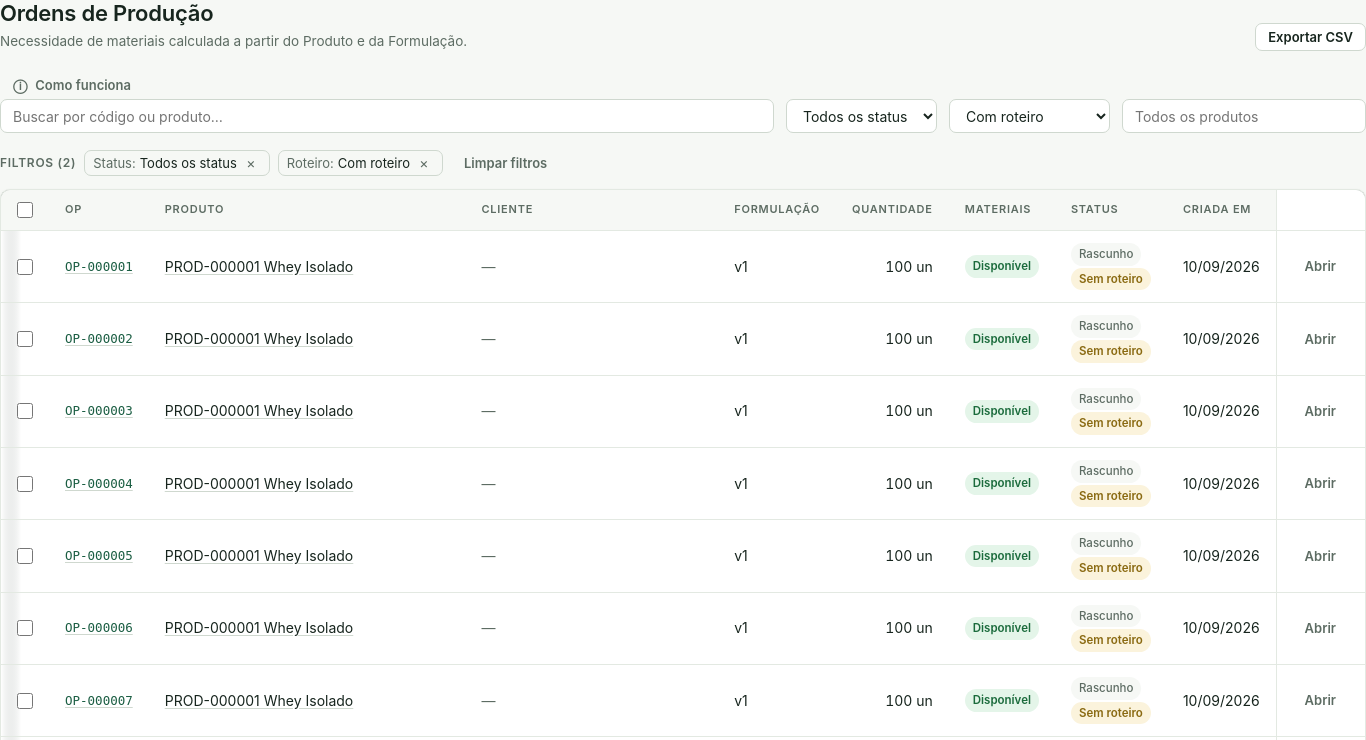
it: OPs — PDF e CSV da seleção › com roteiro também viaja — como `false`, não some do filtro
The image size is (1366, 740).
Click the checkbox named "Selecionar todos os registros desta página" at (25, 210), box [17, 202, 33, 218]
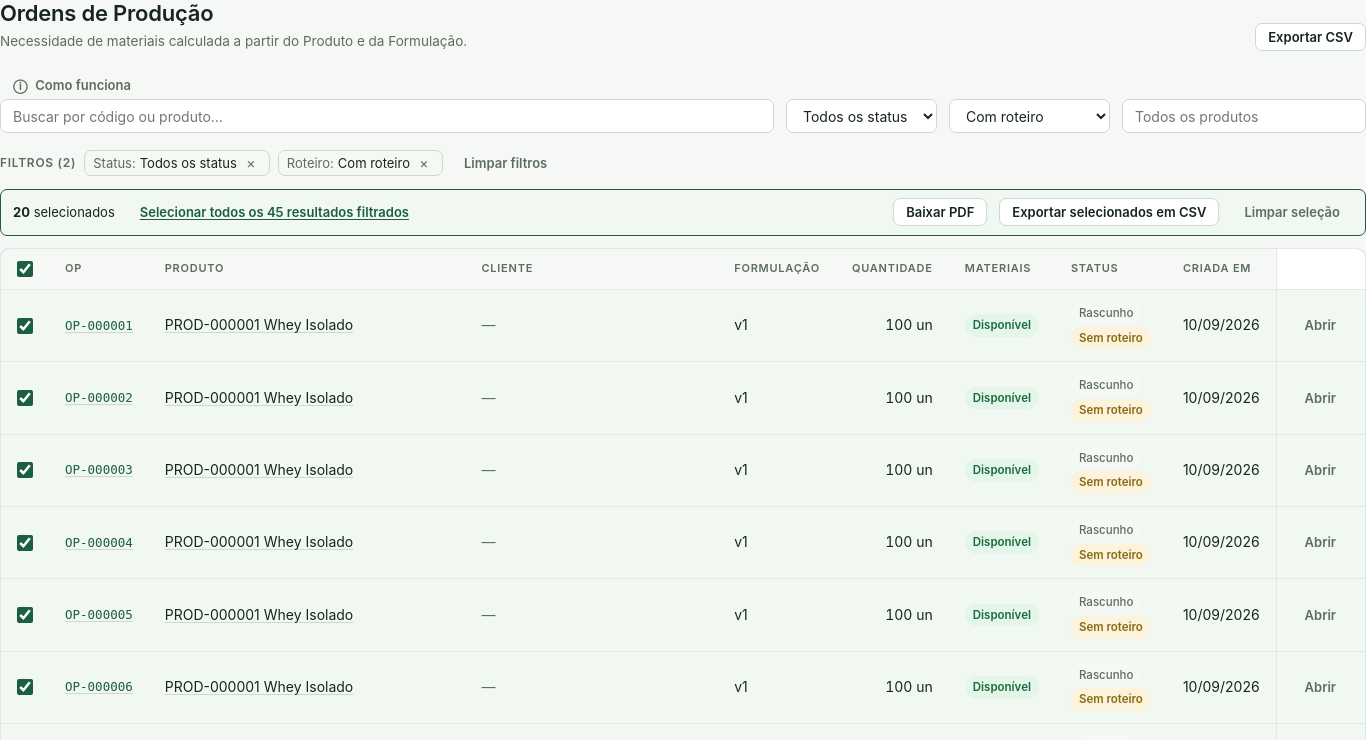
Click the button "Selecionar todos os 45 resultados filtrados" at (274, 212), box [127, 198, 422, 227]
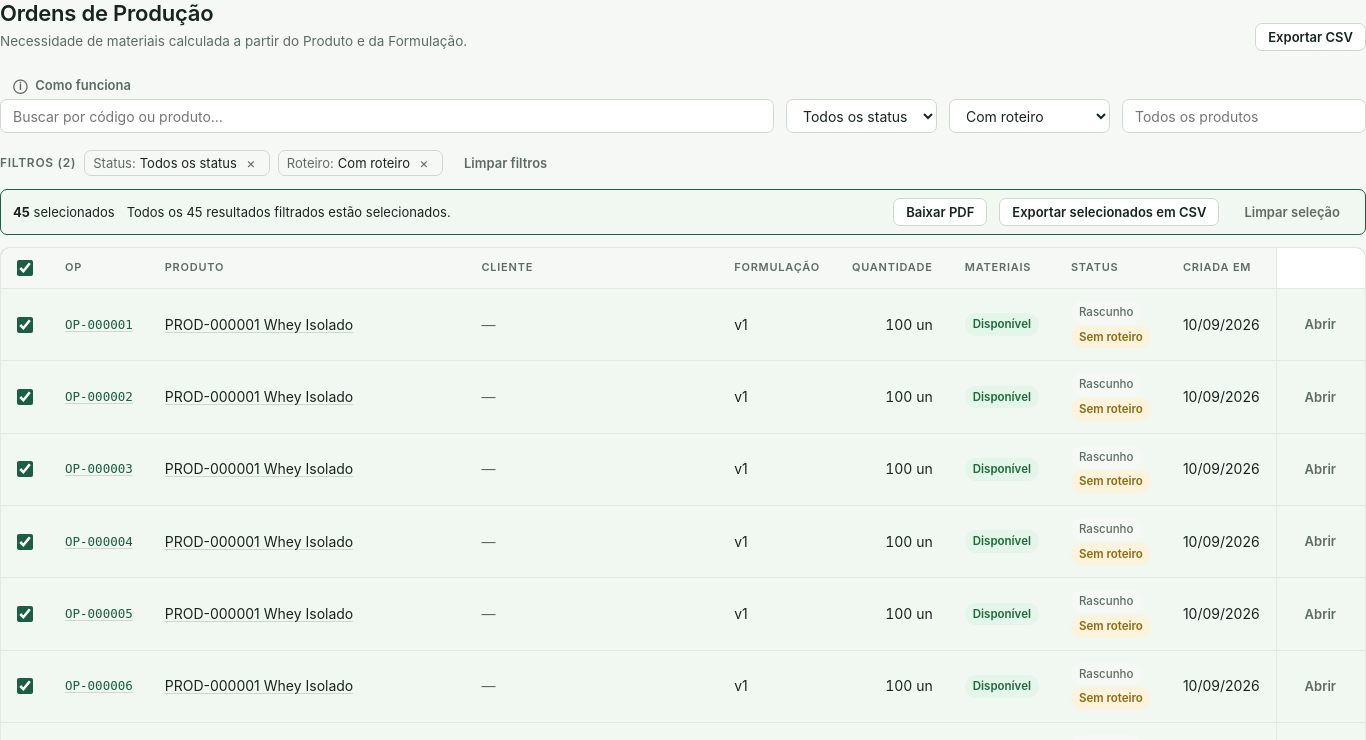
Click the button "Exportar selecionados em CSV" at (1109, 212), box [999, 198, 1219, 226]
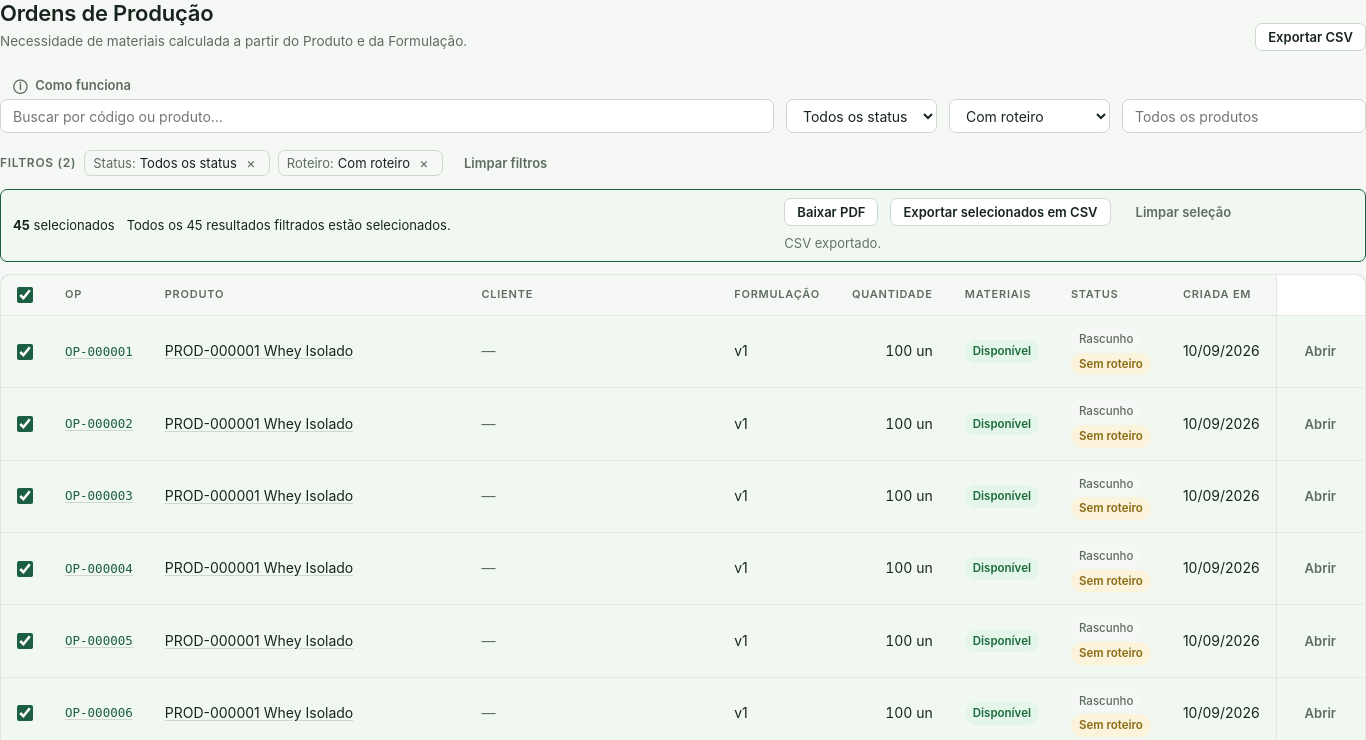
Expected: the message reads "CSV exportado.", [784, 235, 881, 251]
